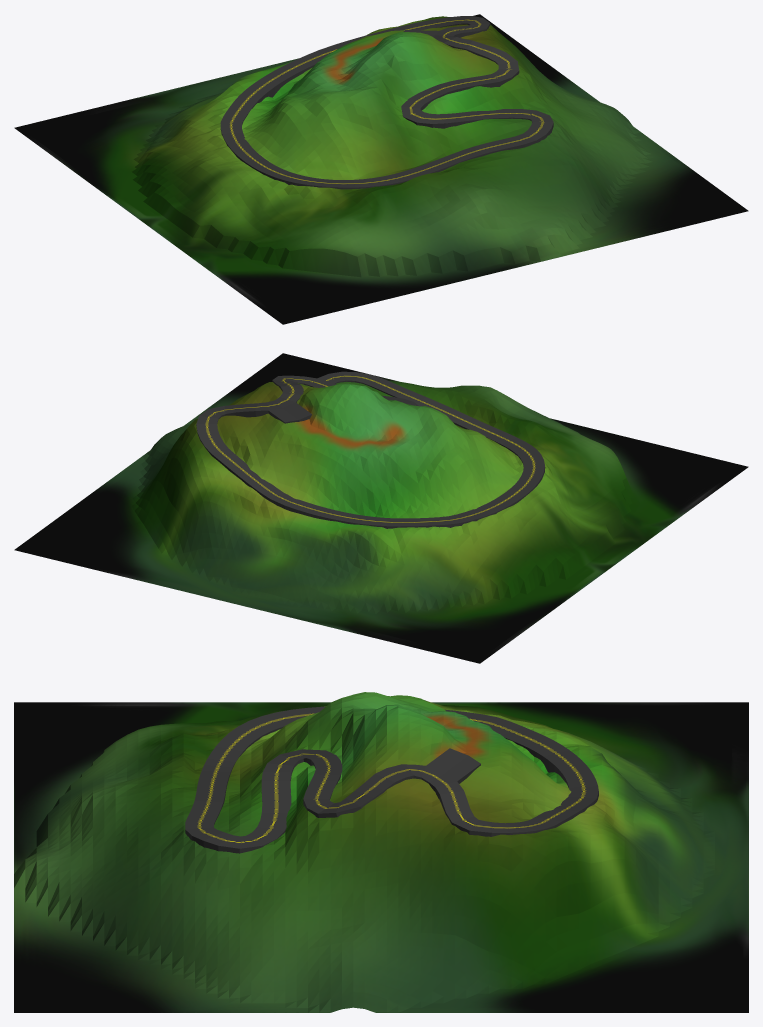
Rendered from island_and_road.glb.
3 renders of one model, top to bottom at view 1: azimuth 30°, elevation 25°; view 2: azimuth 150°, elevation 25°; view 3: azimuth 270°, elevation 25°, orthographic. The views are drawn at different scales.
Parts seen in each view (by area): view 1: grid island, Plane.001; view 2: grid island, Plane.001; view 3: grid island, Plane.001.
Part boxes in pixels (x1,y1,x2,y2): grid island: [14, 14, 748, 324]; Plane.001: [220, 16, 553, 189]; grid island: [14, 353, 748, 663]; Plane.001: [196, 371, 545, 528]; grid island: [14, 692, 748, 1012]; Plane.001: [185, 706, 598, 853].
Bounding box in the file's own units: 290 × 72.54 × 290.
2 materials, 2 textured.
